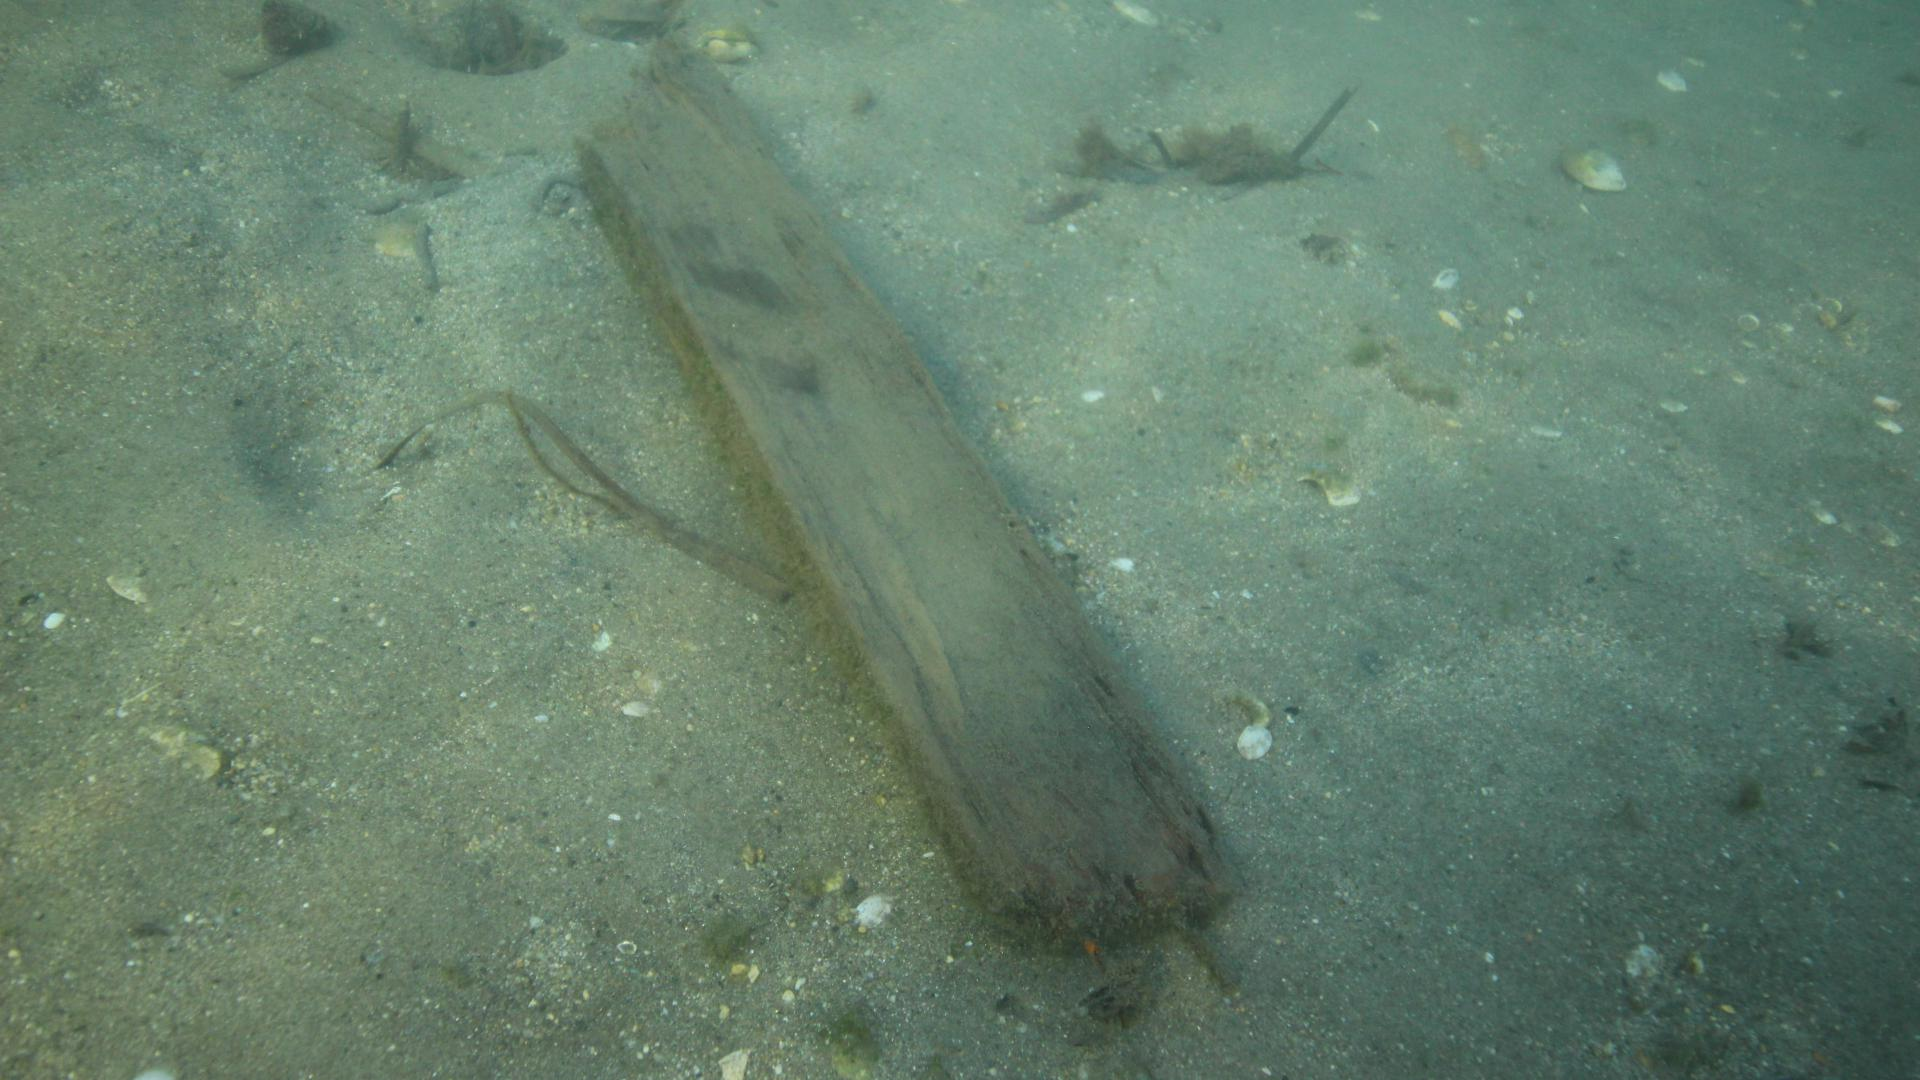wood: (574, 34, 1240, 956)
